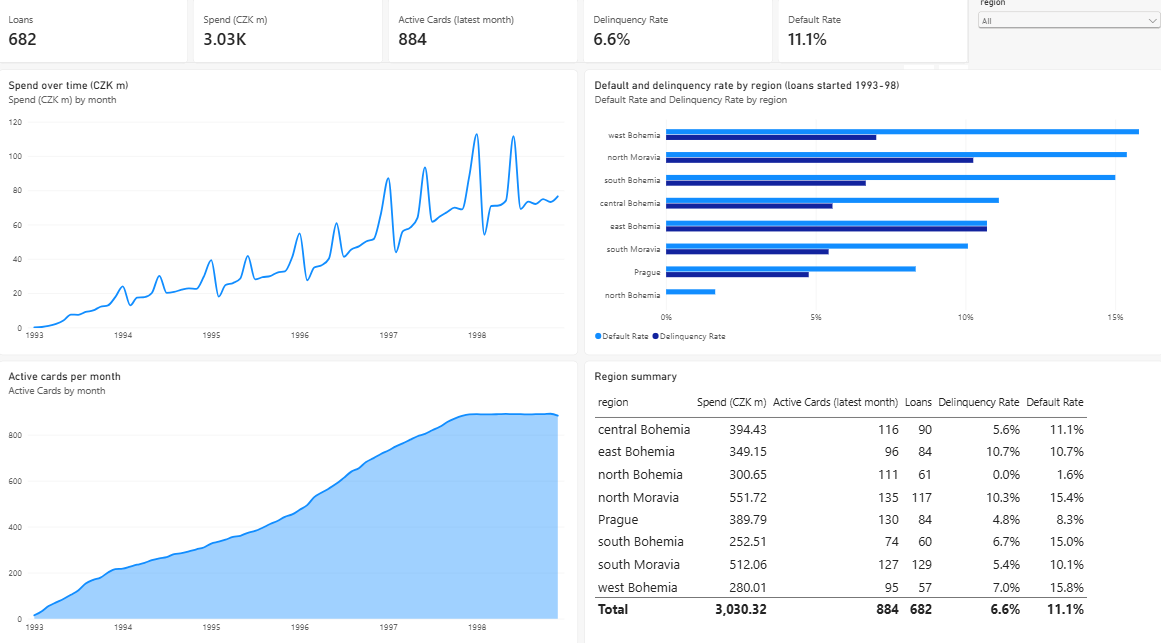

This screenshot's page, from the dashboard's own definition file:
{"tool":"powerbi","page":{"name":"Page 1","canvas":[1920,1080],"ordinal":0},"visuals":[{"type":"cardVisual","fields":{"Data":["region_month.Loans","region_month.Spend (CZK m)","region_month.Active Cards (latest month)","region_month.Delinquency Rate","region_month.Default Rate"]},"box":[0,0,1600,110],"z":0},{"type":"lineChart","title":"Spend over time (CZK m)","fields":{"Category":["region_month.month"],"Y":["region_month.Spend (CZK m)"]},"box":[0,120,955,470],"z":3},{"type":"clusteredBarChart","title":"Default and delinquency rate by region (loans started 1993-98)","fields":{"Category":["regions.region"],"Y":["region_month.Default Rate","region_month.Delinquency Rate"]},"box":[965,120,955,470],"z":4},{"type":"areaChart","title":"Active cards per month","fields":{"Category":["region_month.month"],"Y":["region_month.Active Cards"]},"box":[0,600,955,470],"z":5},{"type":"tableEx","title":"Region summary","fields":{"Values":["regions.region","region_month.Spend (CZK m)","region_month.Active Cards (latest month)","region_month.Loans","region_month.Delinquency Rate","region_month.Default Rate"]},"box":[965,600,955,470],"z":6},{"type":"slicer","fields":{"Values":["regions.region"]},"box":[1610,0,310,110],"z":7}]}

Visuals, with their boxes in screenshot pixels (x1, y1, x2, y2), scaled from the page's 1920x1080 canvas onto the 1161x643 screenshot:
cardVisual - region_month.Loans x region_month.Spend (CZK m): bbox=[0, 0, 968, 65]
"Spend over time (CZK m)" lineChart: bbox=[0, 71, 577, 351]
"Default and delinquency rate by region (loans started 1993-98)" clusteredBarChart: bbox=[584, 71, 1160, 351]
"Active cards per month" areaChart: bbox=[0, 357, 577, 637]
"Region summary" tableEx: bbox=[584, 357, 1160, 637]
slicer - regions.region: bbox=[974, 0, 1160, 65]
